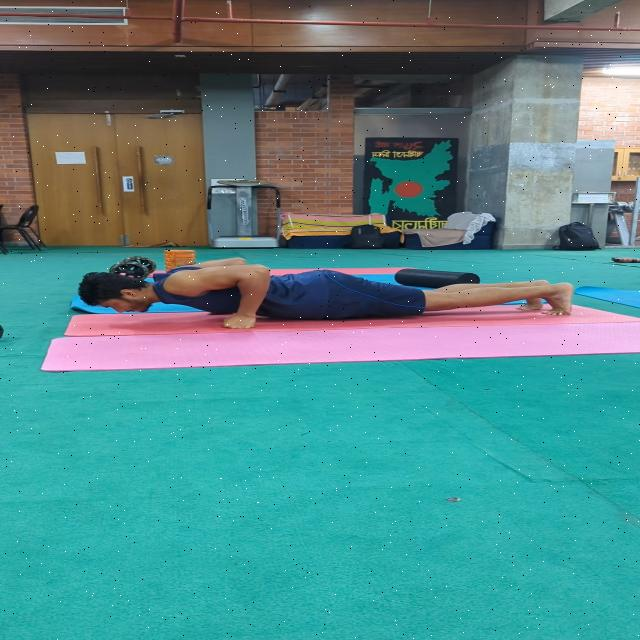Normal_PushUps: (62, 253, 599, 342)
